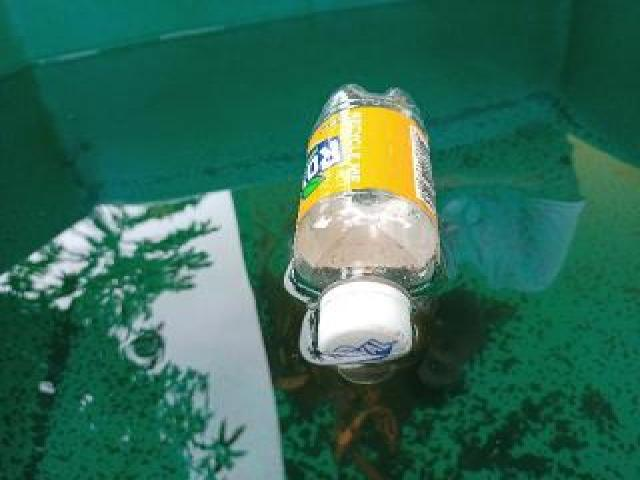Bottle: (285, 78, 448, 364)
